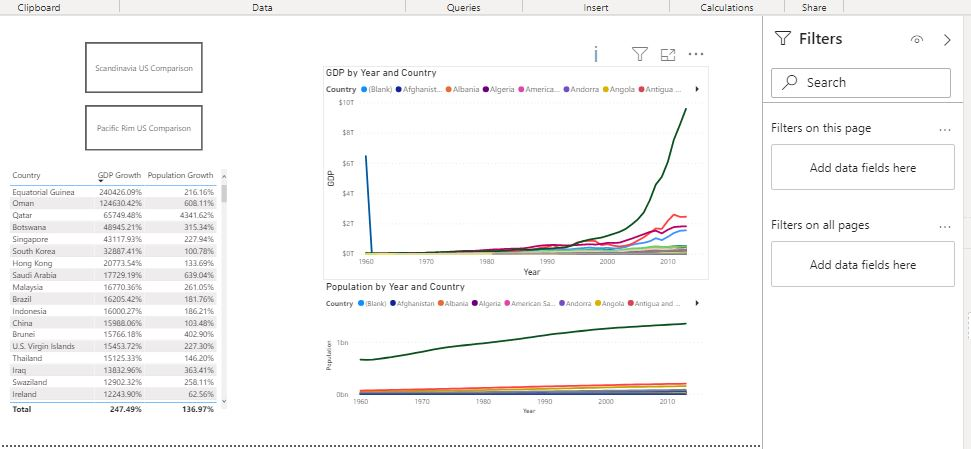

Layout of this report page (visuals, bound fields, positions):
{"tool":"powerbi","page":{"name":"Page 2","canvas":[1280,720],"ordinal":1},"visuals":[{"type":"tableEx","fields":{"Values":["countries (1).Country","Indicators.GDP Growth","Indicators.Population Growth"]},"box":[10.1,252,376.3,421.6],"z":0},{"type":"lineChart","fields":{"Category":["Indicators.Year"],"Y":["Indicators.GDP"],"Series":["countries (1).Country"]},"box":[542.6,84,648.4,359.5],"z":1000},{"type":"lineChart","fields":{"Category":["Indicators.Year"],"Y":["Indicators.Population"],"Series":["countries (1).Country"]},"box":[543,443,648,231],"z":2000},{"type":"actionButton","box":[143.2,149.8,198.3,77.1],"z":2003},{"type":"actionButton","box":[143.2,44.1,198.3,85.9],"z":2004}]}

Visuals, with their boxes on the page's 1280x720 design canvas (x1, y1, x2, y2). These are canvas units, not pixel positions in the 971x449 screenshot, which may show the page scaled, cropped or inside an application window:
tableEx - countries (1).Country x Indicators.GDP Growth: <region>10, 252, 386, 674</region>
lineChart - Indicators.Year x Indicators.GDP: <region>543, 84, 1191, 444</region>
lineChart - Indicators.Year x Indicators.Population: <region>543, 443, 1191, 674</region>
actionButton: <region>143, 150, 342, 227</region>
actionButton: <region>143, 44, 342, 130</region>
